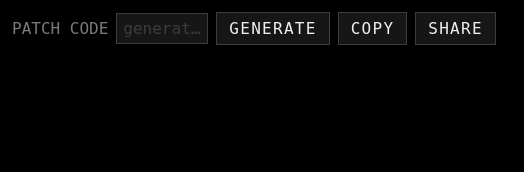
Scenario: what the field shows › comes back on returning to a patch already generated
This screenshot has width=524, height=172.
Click the button "GENERATE": (273, 28) [216,12,330,45]
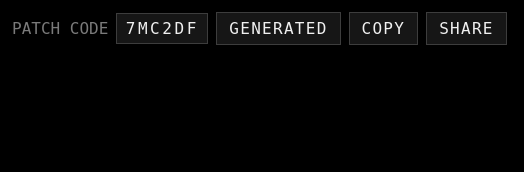
Check: the field named "Patch code" is not empty, box [116,13,208,44]
